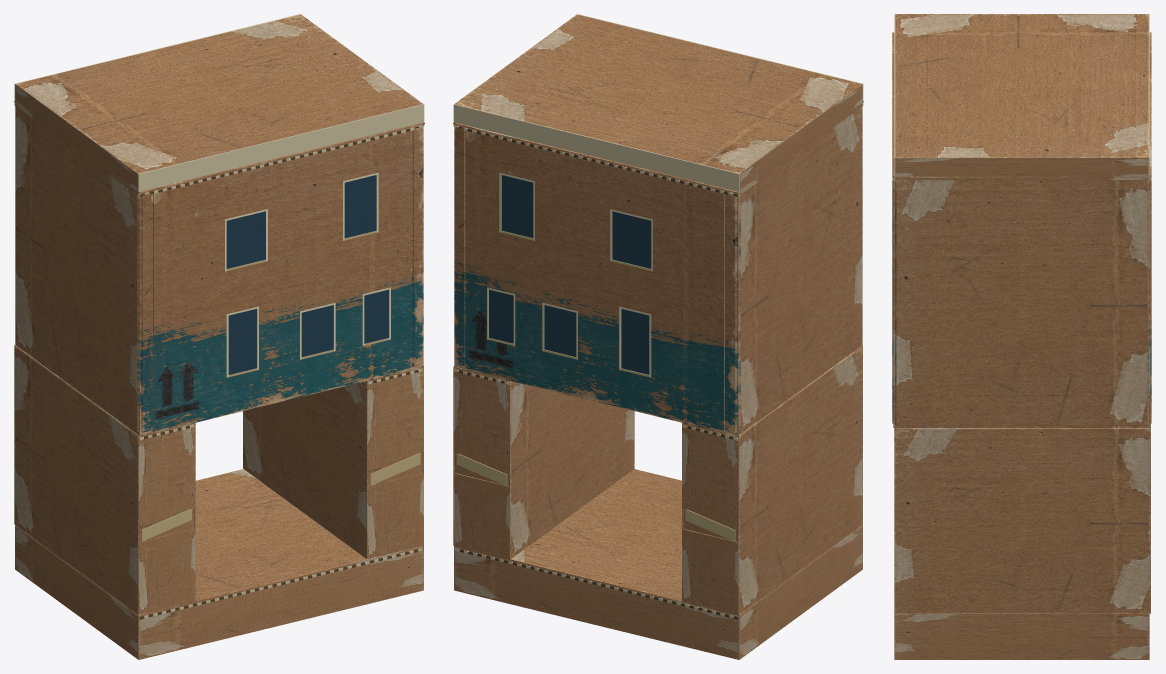
The model's file is cardboard-arch.fbx.
The picture shows the model from 3 angles, left to right: view 1: azimuth 30°, elevation 25°; view 2: azimuth 150°, elevation 25°; view 3: azimuth 270°, elevation 25°; orthographic projection. The views are drawn at different scales.
Visible parts, largest first — view 1: cardboard-arch; view 2: cardboard-arch; view 3: cardboard-arch.
Boxes of the visible parts, left/top/right/bottom form: cardboard-arch: left=14, top=14, right=424, bottom=659; cardboard-arch: left=453, top=14, right=863, bottom=659; cardboard-arch: left=892, top=14, right=1151, bottom=659.
Bounding box in the file's own units: 16000 × 26000 × 12158.
1 material, 1 textured.
